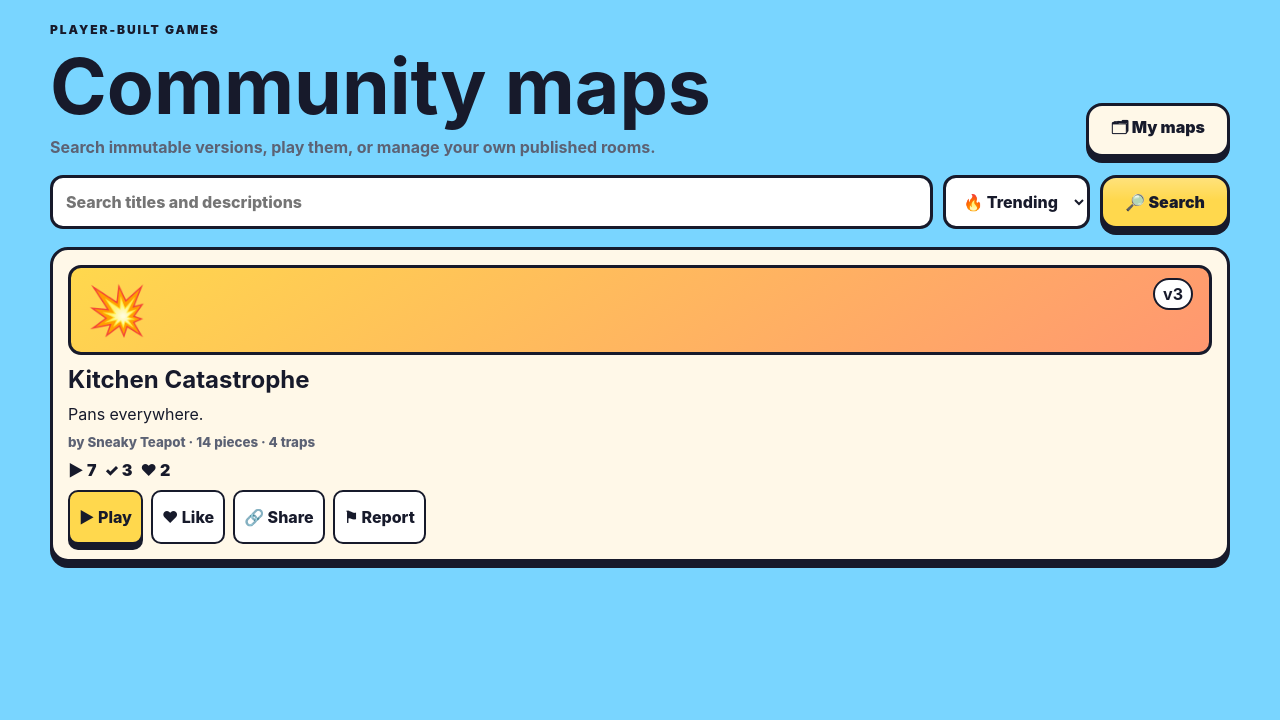
Test case: community map browser › records one like and updates the visible count
Expected: the heading "Kitchen Catastrophe" is shown, x1=68 y1=365 x2=310 y2=394
Step 1. Click the button "♥ Like" → (188, 517), box x1=151 y1=490 x2=225 y2=544
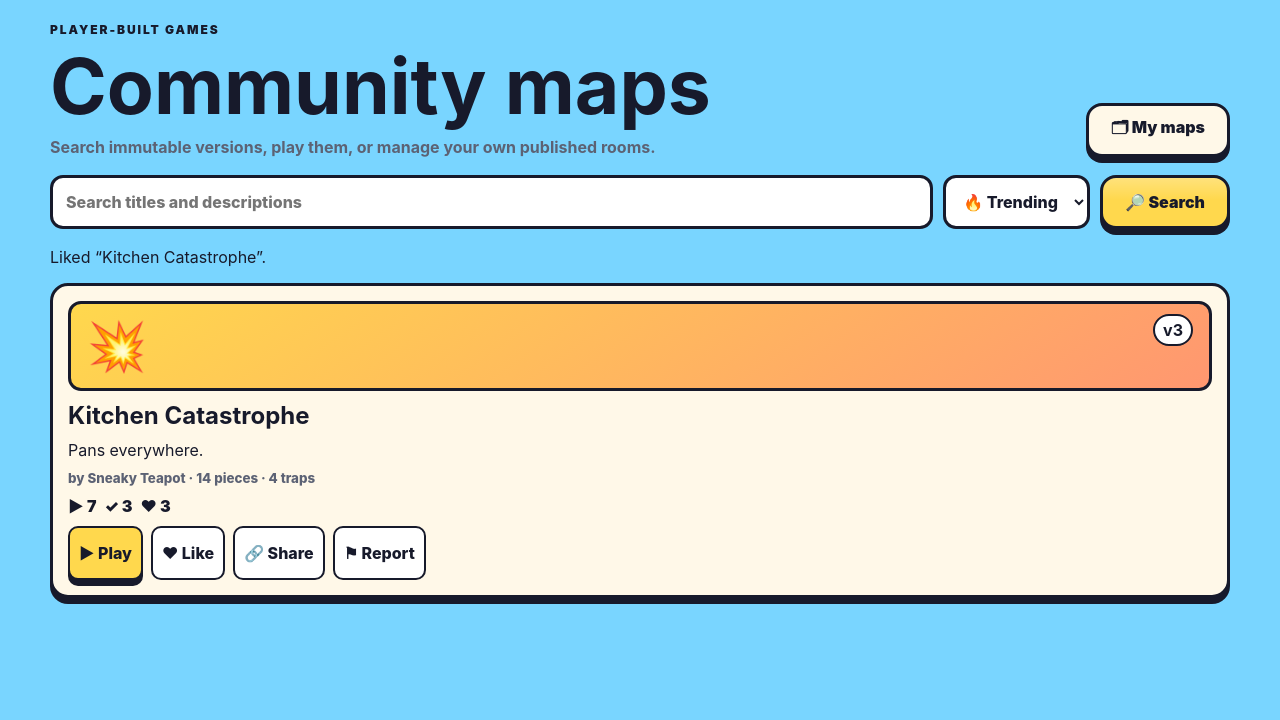
Expected: the text "♥ 3" is shown, x1=140 y1=496 x2=171 y2=516
